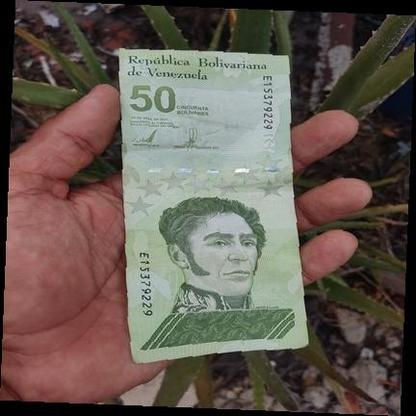fifty-front-vef: (119, 53, 308, 363)
